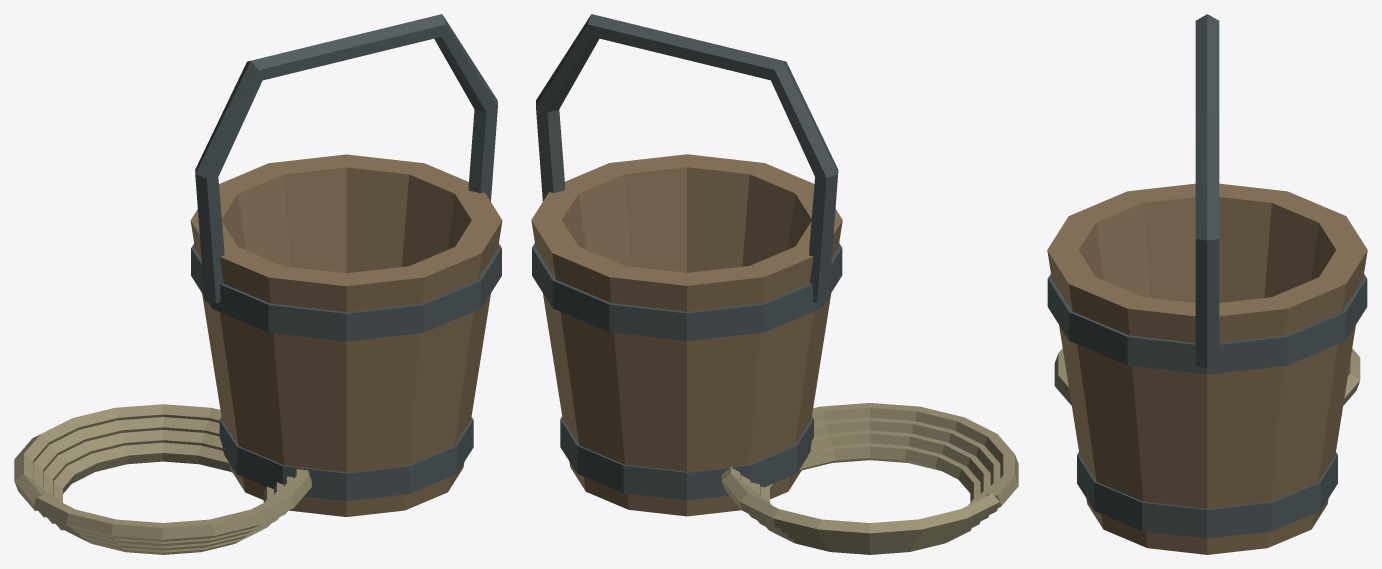
The model's file is DG_Bucket_RopeWell.fbx.
3 views of the same model, side by side, from view 1: azimuth 30°, elevation 25°; view 2: azimuth 150°, elevation 25°; view 3: azimuth 270°, elevation 25° (orthographic). The views are drawn at different scales.
Parts seen in each view (by area): view 1: DG_Bucket_RopeWell; view 2: DG_Bucket_RopeWell; view 3: DG_Bucket_RopeWell.
Boxes of the visible parts, bbox=[...] form: DG_Bucket_RopeWell: bbox=[14, 14, 502, 554]; DG_Bucket_RopeWell: bbox=[531, 14, 1018, 554]; DG_Bucket_RopeWell: bbox=[1047, 14, 1367, 554].
Size of the model in its own units: 0.9645 by 0.8525 by 0.56.
